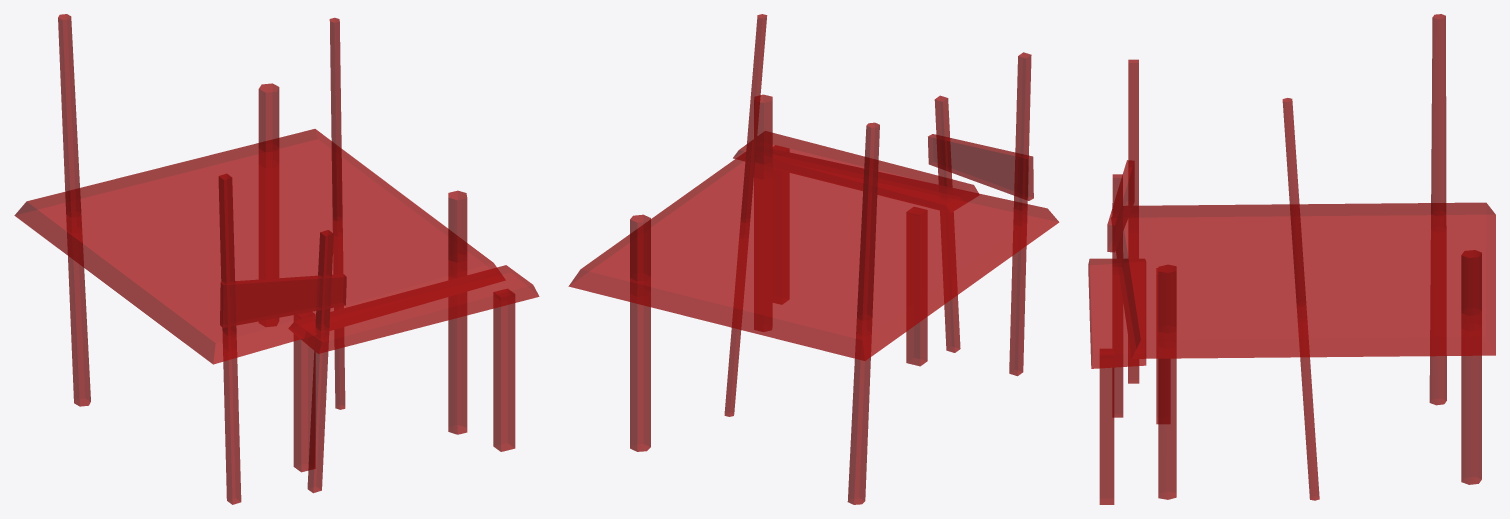
The model's file is SM_Bld_Camp_Tent_02_Collision.fbx.
The picture shows the model from 3 angles, left to right: view 1: azimuth 30°, elevation 25°; view 2: azimuth 150°, elevation 25°; view 3: azimuth 270°, elevation 25°; orthographic projection. The views are drawn at different scales.
Visible parts, largest first — view 1: SM_Bld_Camp_Tent_02_Collision; view 2: SM_Bld_Camp_Tent_02_Collision; view 3: SM_Bld_Camp_Tent_02_Collision.
Boxes of the visible parts, x1=… form: SM_Bld_Camp_Tent_02_Collision: x1=14, y1=14, x2=539, y2=504; SM_Bld_Camp_Tent_02_Collision: x1=568, y1=14, x2=1059, y2=504; SM_Bld_Camp_Tent_02_Collision: x1=1088, y1=14, x2=1495, y2=504.
Size of the model in its own units: 503 by 612 by 580.
